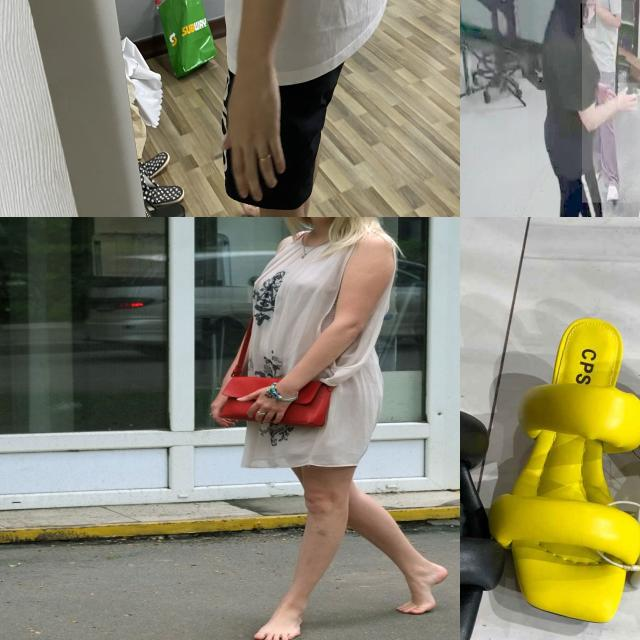Barefoots: (396, 563, 448, 614), (253, 609, 303, 640)
Sandals: (491, 281, 640, 640)
face_mask: (580, 4, 596, 28)
hand_noglove: (618, 83, 638, 111), (595, 79, 616, 104)
person: (528, 0, 632, 217), (582, 0, 640, 202)
shoes: (604, 172, 620, 207)
